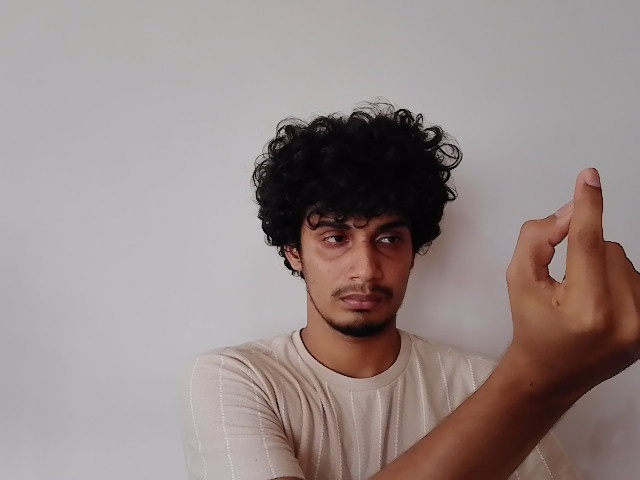just: (503, 166, 640, 382)
